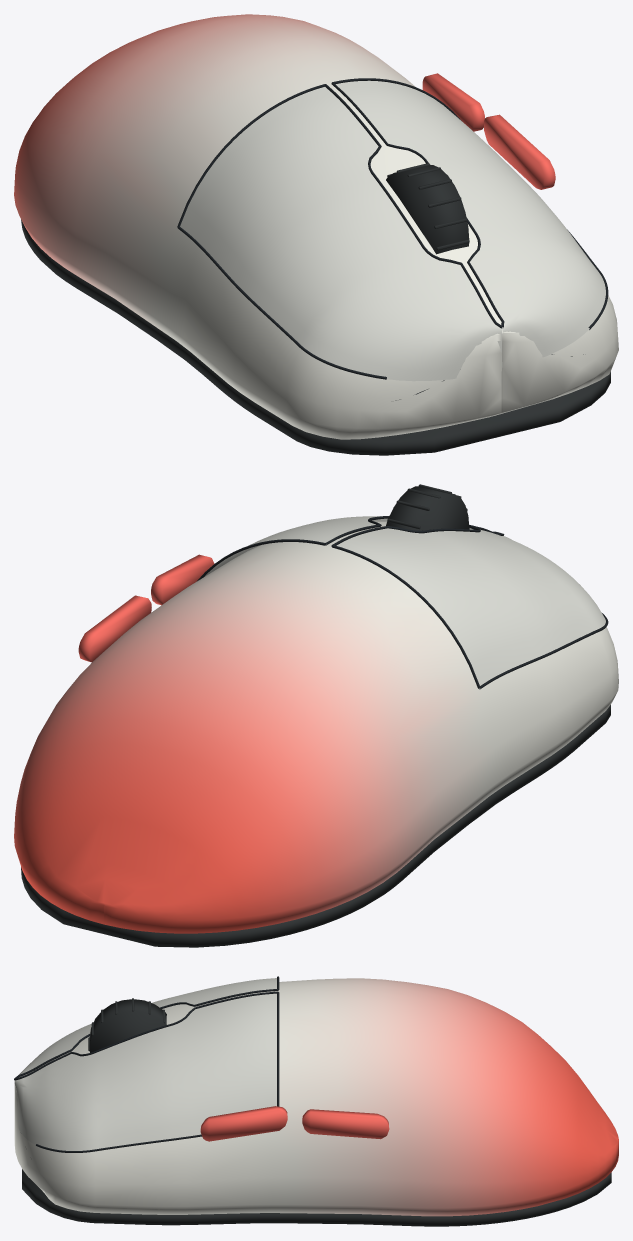
3 views of the same model, one above another, from view 1: azimuth 30°, elevation 25°; view 2: azimuth 150°, elevation 25°; view 3: azimuth 270°, elevation 25° (orthographic). The views are drawn at different scales.
Parts seen in each view (by area): view 1: Mouse body GPX continuous rounded back, Left click panel, Scroll wheel, Curved capsule left side button, Left click outer seam; view 2: Mouse body GPX continuous rounded back, Left click panel, Scroll wheel, Curved capsule left side button, Left click outer seam; view 3: Mouse body GPX continuous rounded back, Left click panel, Scroll wheel, Curved capsule left side button, Left click outer seam.
Boxes of the visible parts, left/top/right/bottom form: Mouse body GPX continuous rounded back: left=14, top=14, right=618, bottom=439; Left click panel: left=180, top=80, right=605, bottom=381; Scroll wheel: left=21, top=163, right=610, bottom=455; Curved capsule left side button: left=422, top=73, right=555, bottom=189; Left click outer seam: left=177, top=78, right=608, bottom=400; Mouse body GPX continuous rounded back: left=14, top=521, right=618, bottom=933; Left click panel: left=204, top=516, right=605, bottom=688; Scroll wheel: left=21, top=484, right=610, bottom=947; Curved capsule left side button: left=78, top=554, right=214, bottom=662; Left click outer seam: left=197, top=515, right=608, bottom=689; Mouse body GPX continuous rounded back: left=14, top=978, right=618, bottom=1216; Left click panel: left=14, top=978, right=276, bottom=1150; Scroll wheel: left=22, top=998, right=611, bottom=1226; Curved capsule left side button: left=200, top=1106, right=389, bottom=1141; Left click outer seam: left=14, top=976, right=279, bottom=1152.
Size of the model in its own units: 0.0635 by 0.04 by 0.125.
